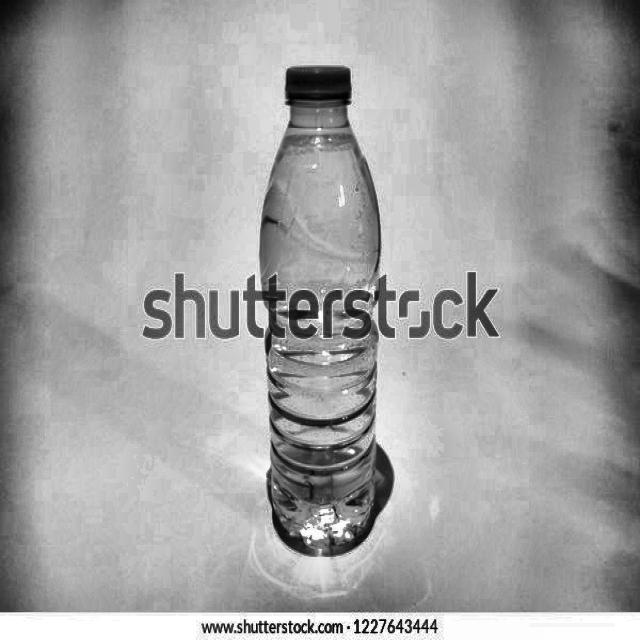waterbottle: (252, 52, 389, 562)
